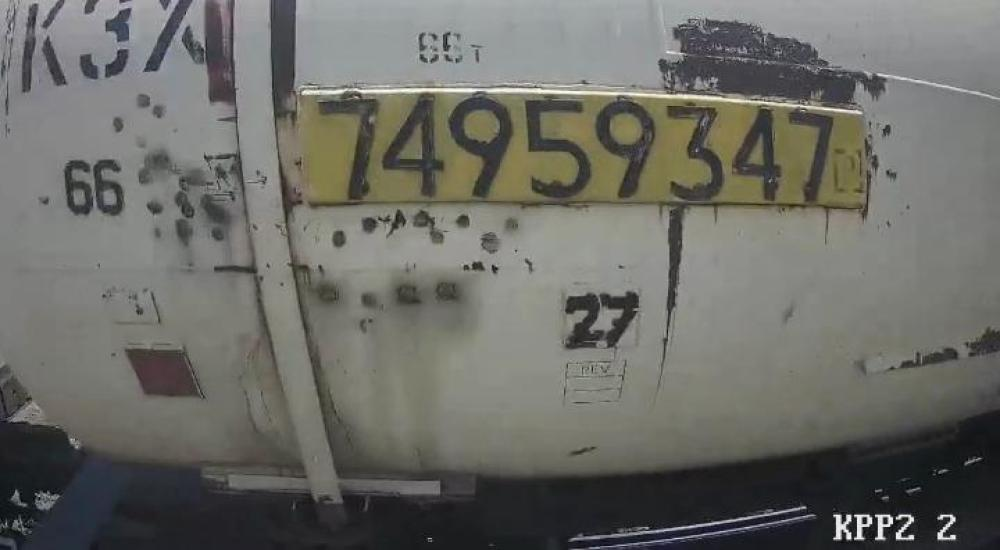Wagon-number: (315, 90, 837, 208)
